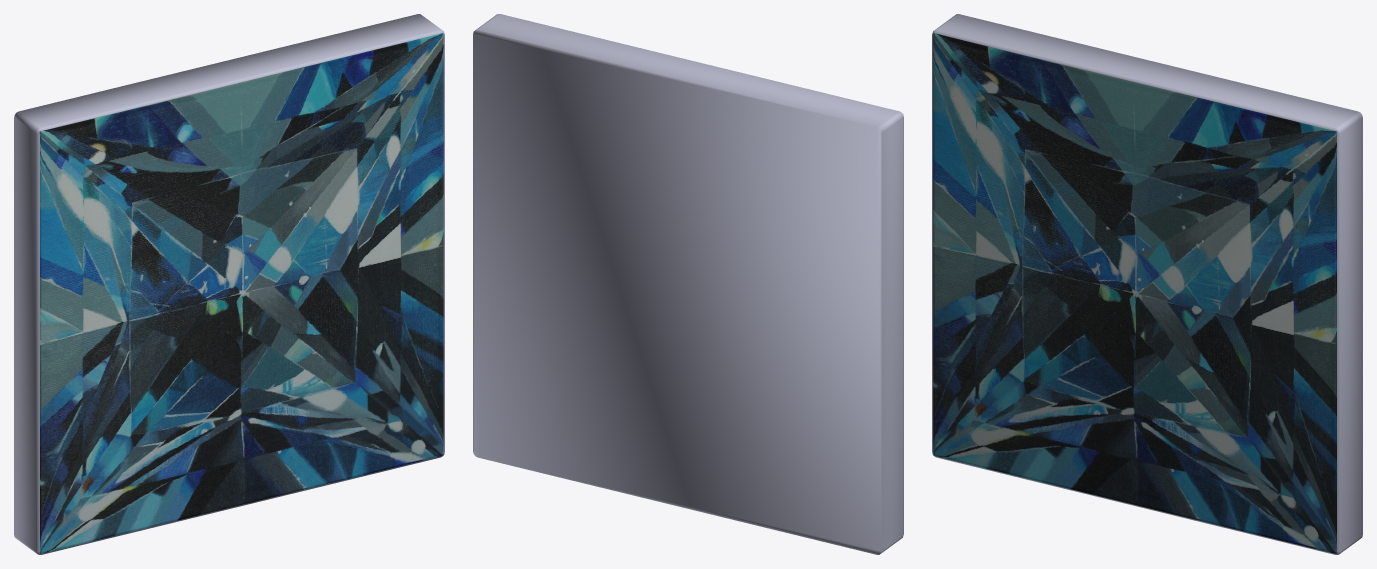
File: shirley.glb
The picture shows the model from 3 angles, left to right: view 1: azimuth 30°, elevation 25°; view 2: azimuth 150°, elevation 25°; view 3: azimuth 330°, elevation 25°; orthographic projection.
Visible parts, largest first — view 1: shirley1; view 2: shirley1; view 3: shirley1.
Boxes of the visible parts, x1,y1,x2,y2 form: shirley1: (14, 14, 444, 554); shirley1: (473, 14, 903, 554); shirley1: (932, 14, 1362, 554).
Bounding box in the file's own units: 0.3 × 0.3 × 0.03.
Materials: 2 (1 with a texture image).
